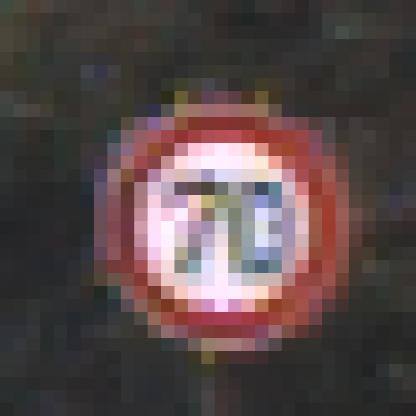Speed Limit 70: (106, 111, 345, 345)
